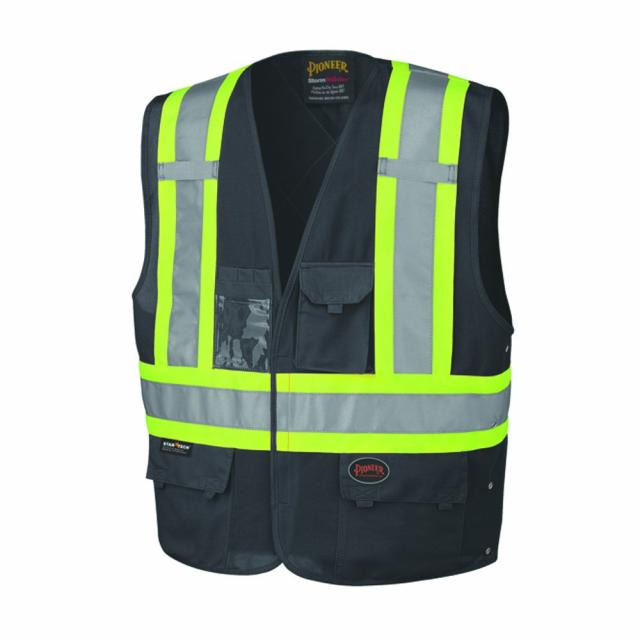Reflective-Jacket: (111, 38, 554, 606)
